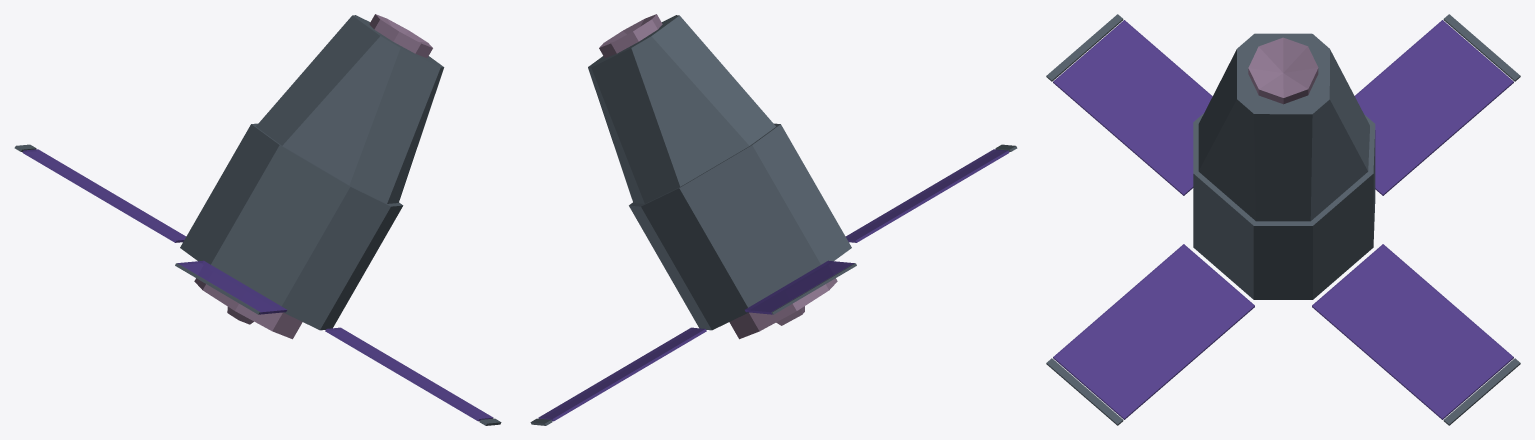
Rendered from Sat-FR-COS.glb.
The picture shows the model from 3 angles, left to right: view 1: azimuth 30°, elevation 25°; view 2: azimuth 150°, elevation 25°; view 3: azimuth 270°, elevation 25°; orthographic projection. The views are drawn at different scales.
Size of the model in its own units: 28.81 by 29.24 by 34.11.
